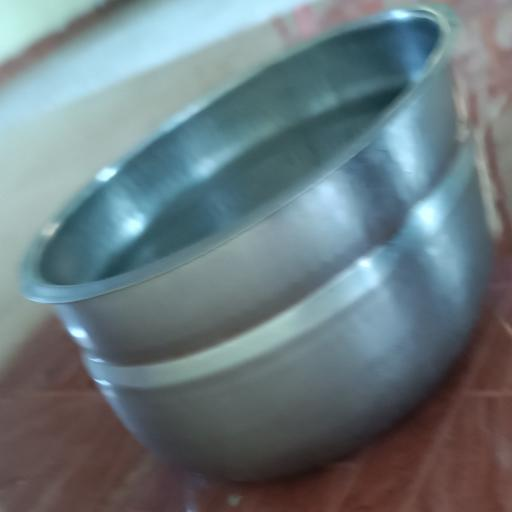vessel: (22, 4, 492, 479)
